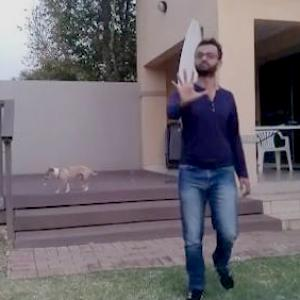follow_hand: (169, 60, 209, 106)
